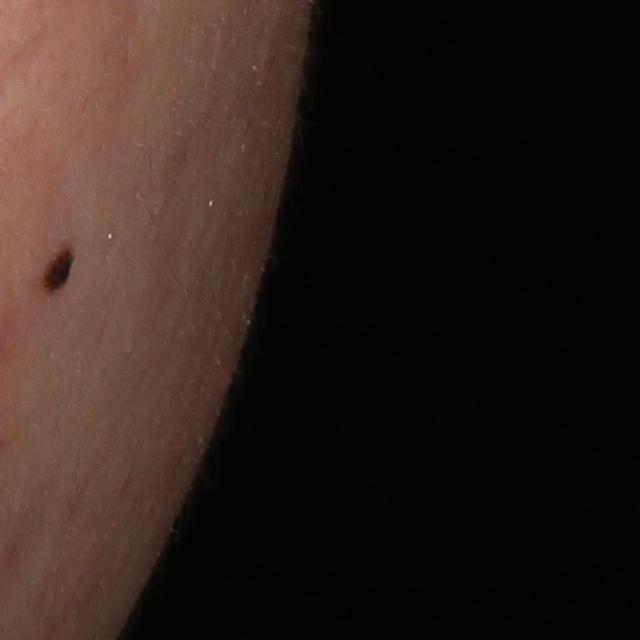nevus: (37, 242, 77, 301)
